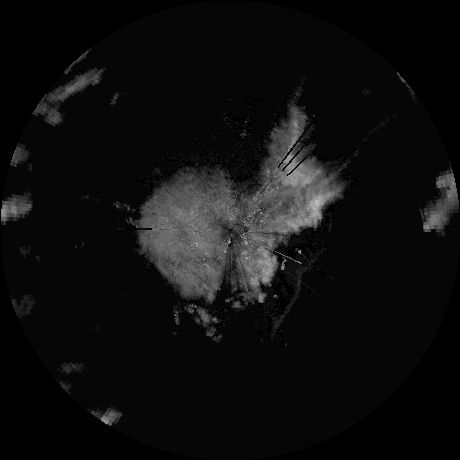frontgust: (274, 262, 312, 333)
